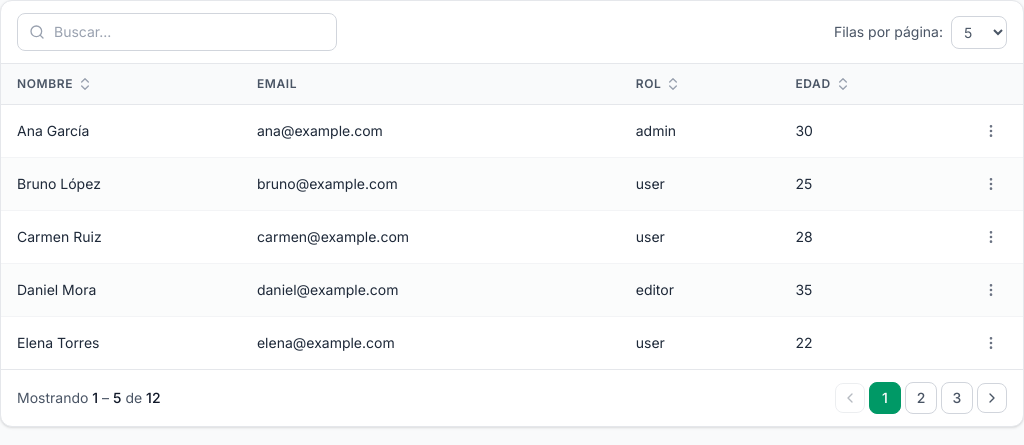
Test: DataTable — Menú de acciones por fila › abre el menú al hacer clic en el botón de tres puntos
Click the button named "abrir menú de acciones" in the row of "Ana García". click: (991, 131)
box: [977,117,1005,145]
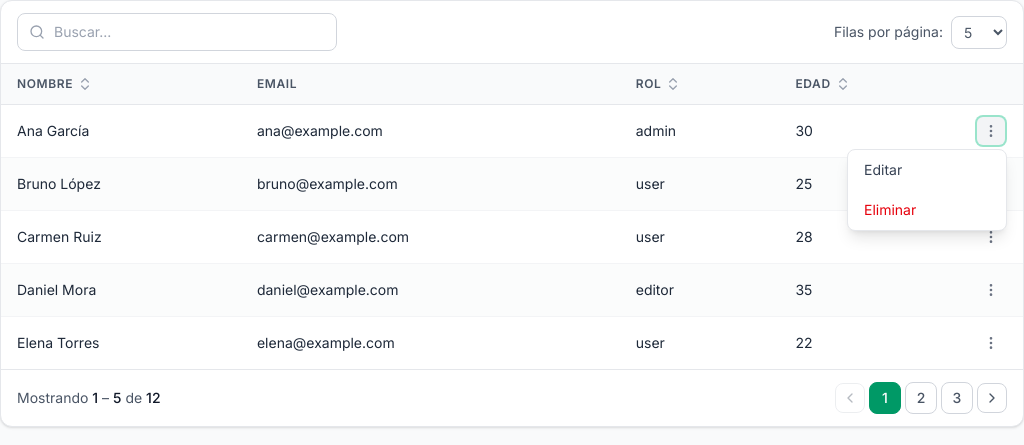
Result: the menu item "Editar" is shown at [848,150,1006,190]
Result: the menu item "Eliminar" is shown at [848,190,1006,230]
